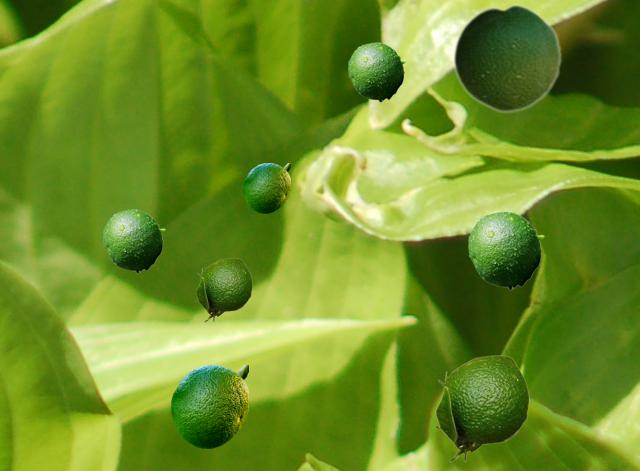dalandan: (452, 2, 561, 113), (434, 355, 528, 461), (171, 365, 247, 447), (468, 211, 543, 289), (103, 209, 164, 272), (195, 258, 251, 321), (348, 42, 405, 101), (243, 163, 289, 212)
